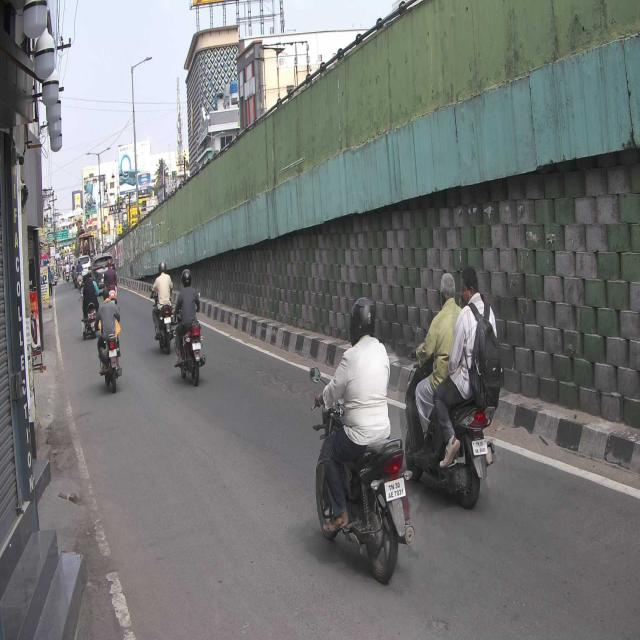double_rider: (407, 264, 496, 512)
single_rider: (306, 299, 412, 583)
